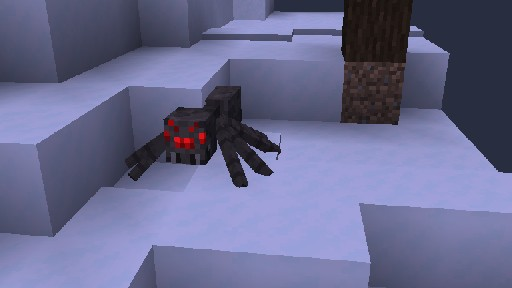spider: (123, 84, 281, 193)
